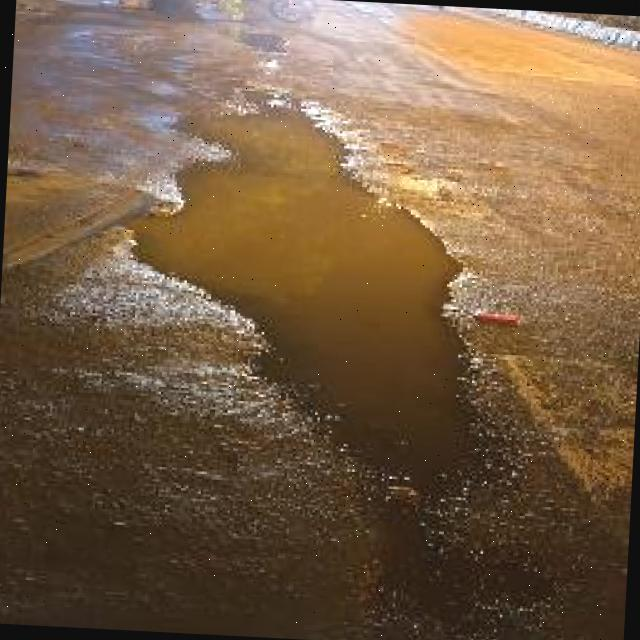waterlogging: (96, 78, 540, 506)
